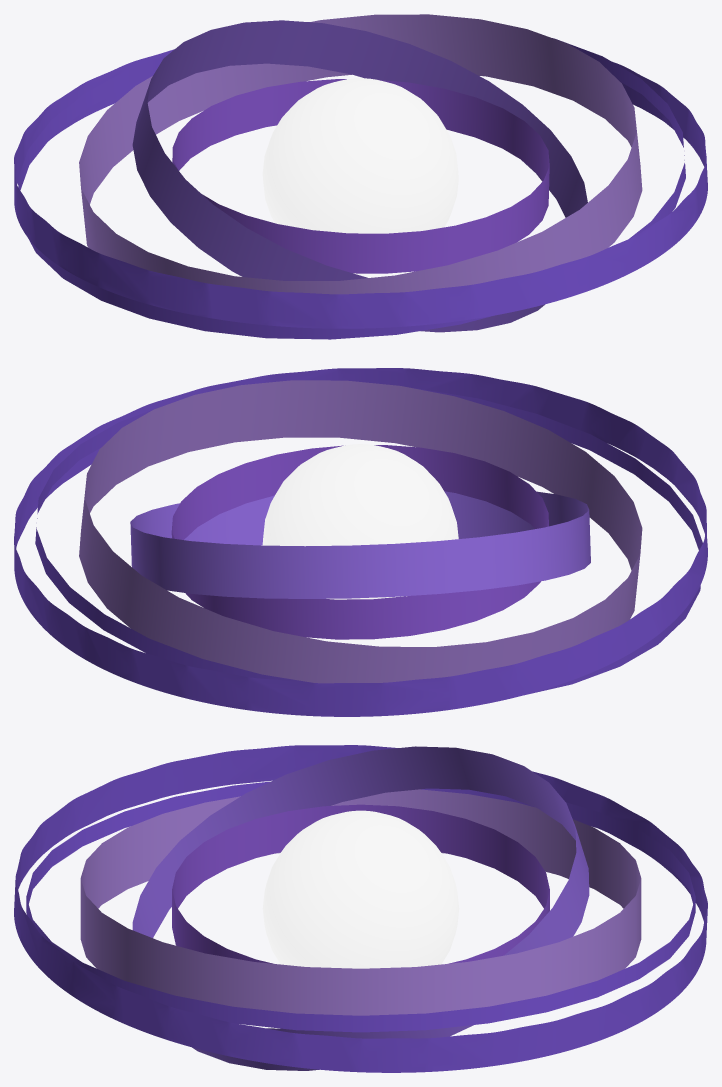
File: metalicOrb9.glb
3 renders of one model, top to bottom at view 1: azimuth 30°, elevation 25°; view 2: azimuth 150°, elevation 25°; view 3: azimuth 270°, elevation 25°, orthographic.
Visible parts, largest first — view 1: Cylinder.002, Cylinder.003, Cylinder.001, Sphere, Cylinder, Cylinder.004; view 2: Cylinder.002, Cylinder.003, Cylinder.001, Cylinder, Sphere, Cylinder.004; view 3: Cylinder.002, Cylinder.003, Sphere, Cylinder.001, Cylinder.004, Cylinder.
Boxes of the visible parts, bbox=[...] form: Cylinder.002: bbox=[79, 14, 642, 294]; Cylinder.003: bbox=[14, 49, 707, 328]; Cylinder.001: bbox=[132, 20, 587, 332]; Sphere: bbox=[262, 78, 458, 274]; Cylinder: bbox=[172, 79, 549, 273]; Cylinder.004: bbox=[17, 22, 685, 339]; Cylinder.002: bbox=[79, 380, 642, 683]; Cylinder.003: bbox=[14, 368, 707, 716]; Cylinder.001: bbox=[130, 491, 590, 598]; Cylinder: bbox=[171, 445, 548, 639]; Sphere: bbox=[262, 444, 458, 640]; Cylinder.004: bbox=[35, 388, 702, 694]; Cylinder.002: bbox=[80, 789, 641, 1015]; Cylinder.003: bbox=[14, 745, 707, 1072]; Sphere: bbox=[262, 810, 459, 968]; Cylinder.001: bbox=[132, 746, 589, 1070]; Cylinder.004: bbox=[26, 781, 695, 1032]; Cylinder: bbox=[172, 804, 549, 963].
Size of the model in its own units: 5.87 by 1.66 by 5.88.
